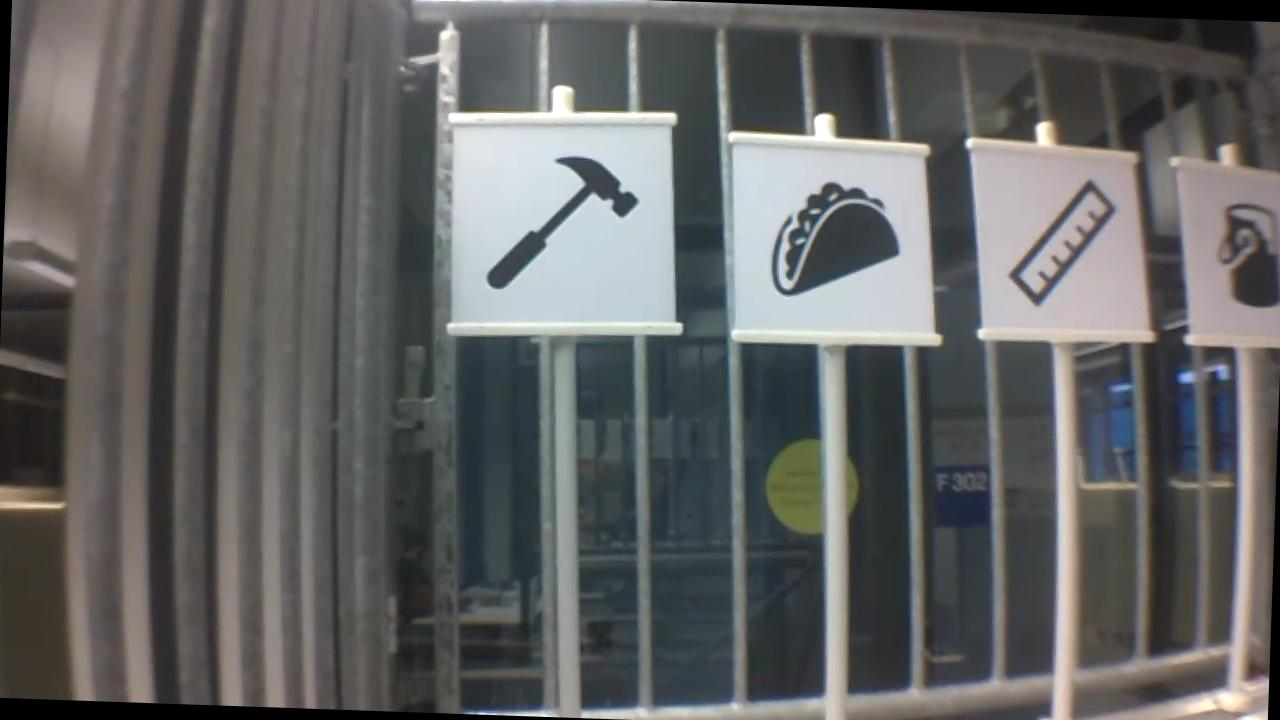bucket: (1203, 195, 1280, 312)
hammer: (477, 149, 647, 303)
ruler: (997, 169, 1122, 314)
taco: (763, 173, 909, 304)
